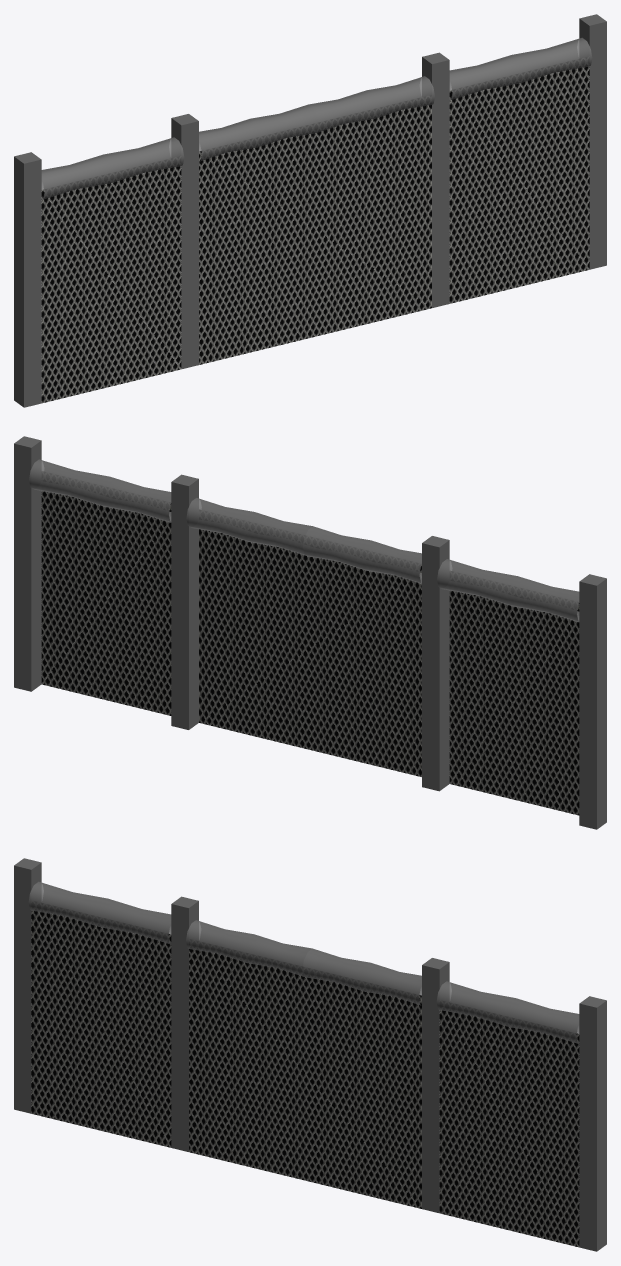
The model's file is Fence_QuarantineStraight_Mod_01.fbx.
3 views of the same model, one above another, from view 1: azimuth 30°, elevation 25°; view 2: azimuth 150°, elevation 25°; view 3: azimuth 330°, elevation 25° (orthographic).
Parts seen in each view (by area): view 1: Chainlink, Supports, BarbedWire; view 2: Chainlink, Supports, BarbedWire; view 3: Chainlink, Supports, BarbedWire.
Part boxes in pixels (x1,y1,x2,y2): Chainlink: [41, 66, 589, 403]; Supports: [14, 14, 606, 407]; BarbedWire: [41, 37, 592, 199]; Chainlink: [41, 491, 579, 815]; Supports: [14, 436, 606, 829]; BarbedWire: [29, 459, 579, 622]; Chainlink: [31, 910, 579, 1247]; Supports: [14, 858, 606, 1251]; BarbedWire: [28, 881, 579, 1043].
Size of the model in its own units: 10 by 4 by 0.4615.
